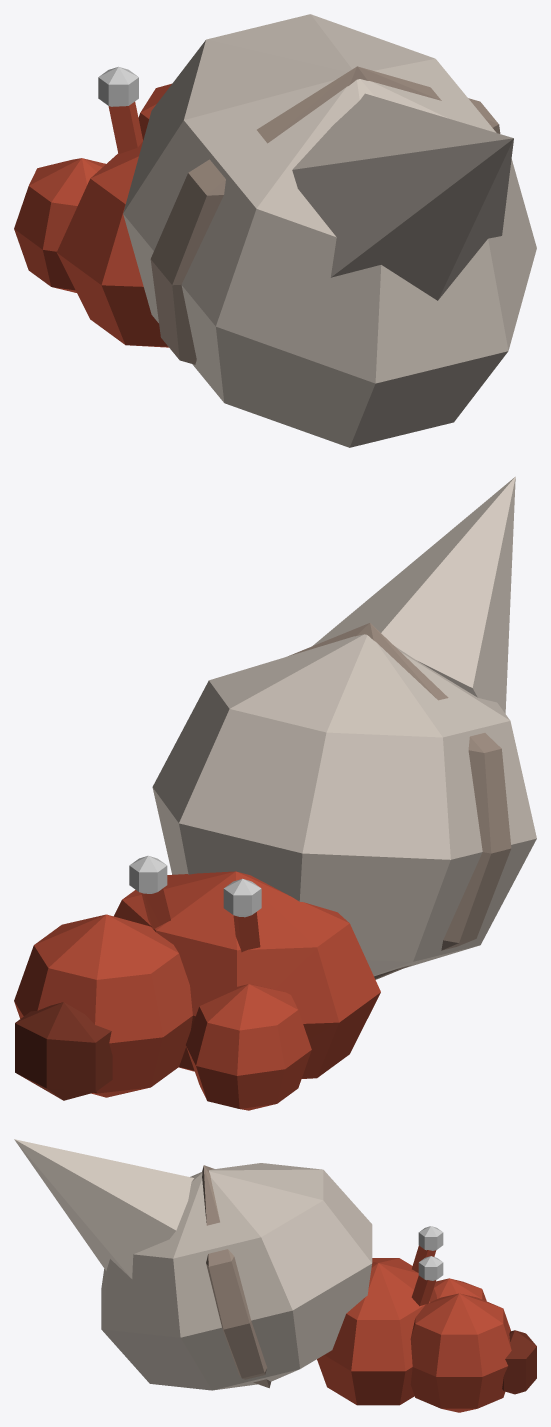
The model's file is animal_hermitcrab.obj.
3 renders of one model, top to bottom at view 1: azimuth 30°, elevation 25°; view 2: azimuth 150°, elevation 25°; view 3: azimuth 270°, elevation 25°, orthographic. The views are drawn at different scales.
Visible parts, largest first — view 1: animal_hermitcrab; view 2: animal_hermitcrab; view 3: animal_hermitcrab.
Part boxes in pixels (x1,y1,x2,y2): animal_hermitcrab: [14, 14, 536, 447]; animal_hermitcrab: [14, 476, 536, 1110]; animal_hermitcrab: [14, 1139, 536, 1412].
Bounding box in the file's own units: 0.1978 × 0.2423 × 0.4392.
